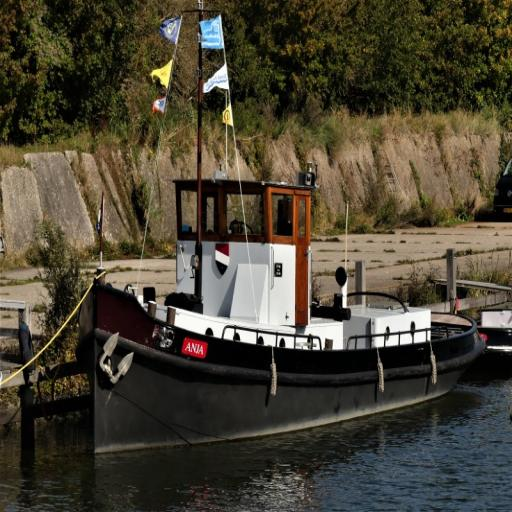tugboat: (75, 159, 490, 467)
